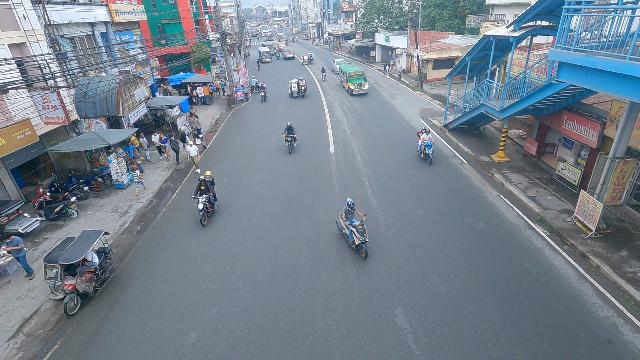car: (331, 58, 349, 73), (282, 47, 295, 60)
jeepney: (339, 64, 371, 97), (257, 47, 272, 63), (262, 42, 277, 54)
motorcycle: (334, 198, 374, 261), (194, 170, 220, 229), (416, 125, 437, 166), (282, 121, 300, 154), (258, 85, 269, 102), (320, 67, 327, 83), (275, 49, 280, 60)
